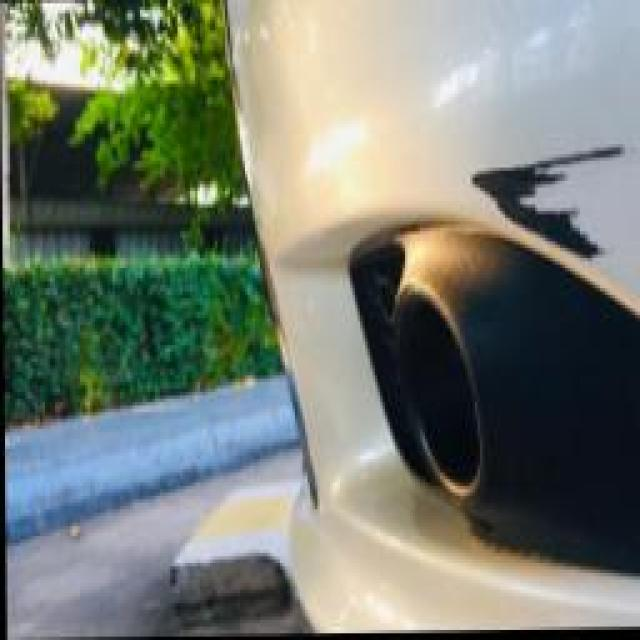Bumper: (448, 124, 640, 288)
